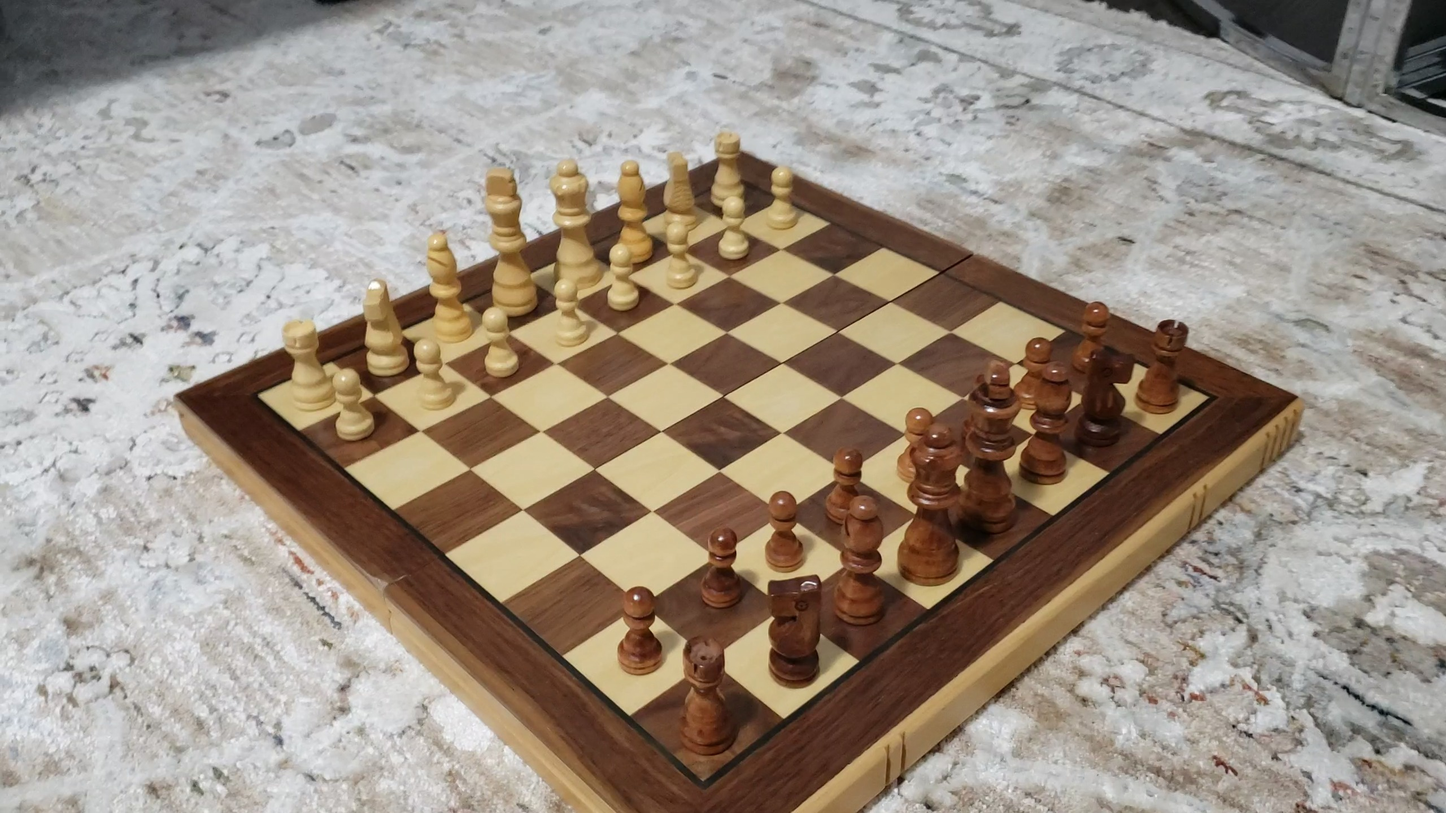black-bishop: (1018, 359, 1076, 483), (834, 494, 887, 625)
black-king: (956, 358, 1026, 536)
black-knight: (766, 574, 825, 688), (1070, 340, 1127, 448)
black-pawn: (615, 583, 666, 677), (823, 442, 868, 534), (699, 524, 745, 611), (761, 486, 805, 572), (894, 404, 939, 487), (1012, 333, 1056, 416), (1070, 296, 1114, 374)
black-queen: (895, 412, 970, 585)
black-rook: (676, 633, 733, 758), (1134, 317, 1190, 414)
white-bishop: (423, 228, 474, 346), (614, 156, 653, 270)
white-king: (480, 159, 538, 320)
white-knight: (360, 277, 407, 376), (661, 147, 698, 238)
white-pawn: (656, 207, 707, 295), (326, 366, 381, 446), (406, 336, 461, 416), (474, 304, 526, 384), (545, 272, 596, 353), (709, 189, 756, 268), (599, 240, 646, 317), (759, 159, 804, 234)
white-queen: (549, 155, 599, 294)
white-rook: (280, 314, 334, 413), (711, 126, 747, 217)
